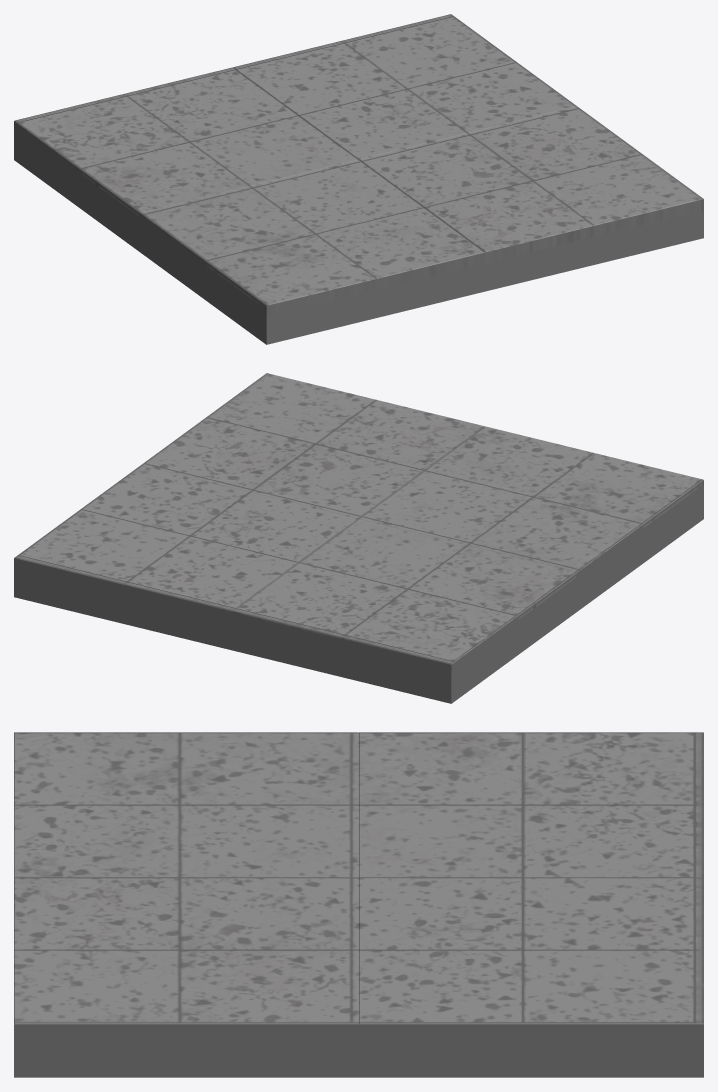
File: fbx_Modular_Floor_1x1_2m.fbx
The picture shows the model from 3 angles, top to bottom: view 1: azimuth 30°, elevation 25°; view 2: azimuth 150°, elevation 25°; view 3: azimuth 270°, elevation 25°; orthographic projection. The views are drawn at different scales.
Visible parts, largest first — view 1: pCube992; view 2: pCube992; view 3: pCube992.
Boxes of the visible parts, x1,y1,x2,y2 form: pCube992: [14, 14, 703, 344]; pCube992: [14, 373, 703, 703]; pCube992: [14, 732, 703, 1077].
Size of the model in its own units: 2 by 0.173 by 2.
1 material, 1 textured.
